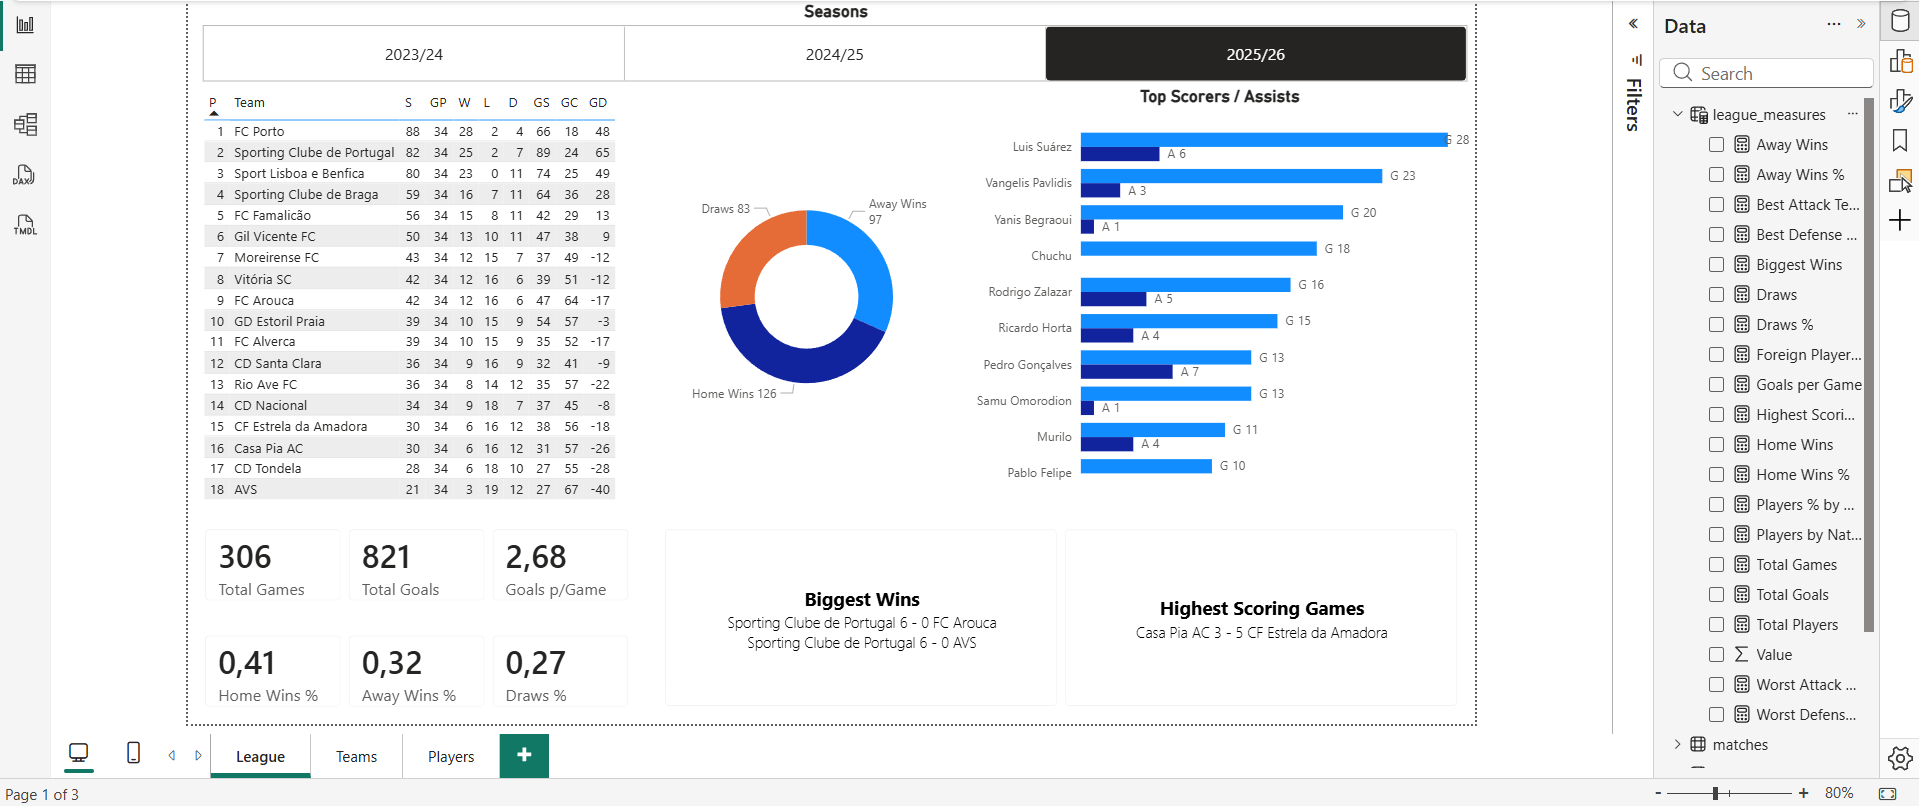

The page's visual inventory and layout, read from the dashboard file:
{"tool":"powerbi","page":{"name":"League","canvas":[1280,720],"ordinal":0},"visuals":[{"type":"tableEx","fields":{"Values":["standings.position","standings.team_name","standings.points","standings.games_played","standings.won","standings.lost","standings.draw","standings.goals_scored","standings.goals_suffered","standings.goal_difference"]},"box":[10,84.6,435.4,419.2],"z":0},{"type":"cardVisual","fields":{"Data":["liga_measures.Home Wins %","liga_measures.Away Wins %","liga_measures.Draws %"]},"box":[0,614.5,457.8,105.7],"z":1000},{"type":"cardVisual","fields":{"Data":["liga_measures.Total Games","liga_measures.Total Goals","liga_measures.Goals per Game"]},"box":[0,508.8,457.8,105.7],"z":2000},{"type":"donutChart","fields":{"Y":["liga_measures.Away Wins","liga_measures.Home Wins","liga_measures.Draws"]},"box":[457.4,85.1,316,419.8],"z":3000},{"type":"clusteredBarChart","title":"Top Scorers / Assists","fields":{"Category":["scorers.player_name"],"Y":["Sum(scorers.goals)","Sum(scorers.assists)"]},"box":[773.3,85.1,506.4,419.8],"z":4000},{"type":"cardVisual","title":"Biggest Wins","fields":{"Data":["liga_measures.Biggest Wins","liga_measures.Highest Scoring Games"]},"box":[457.4,509.3,822.4,210.6],"z":5000},{"type":"advancedSlicerVisual","title":"Seasons","fields":{"Values":["seasons.season_label"]},"box":[9.9,0,1270.1,85.8],"z":6000}]}

Visuals, with their boxes on the page's 1280x720 design canvas (x1, y1, x2, y2). These are canvas units, not pixel positions in the 1919x806 screenshot, which may show the page scaled, cropped or inside an application window:
tableEx - standings.position x standings.team_name: <bbox>10, 85, 445, 504</bbox>
cardVisual - liga_measures.Home Wins % x liga_measures.Away Wins %: <bbox>0, 614, 458, 720</bbox>
cardVisual - liga_measures.Total Games x liga_measures.Total Goals: <bbox>0, 509, 458, 614</bbox>
donutChart - liga_measures.Away Wins x liga_measures.Home Wins: <bbox>457, 85, 773, 505</bbox>
"Top Scorers / Assists" clusteredBarChart: <bbox>773, 85, 1280, 505</bbox>
"Biggest Wins" cardVisual: <bbox>457, 509, 1280, 720</bbox>
"Seasons" advancedSlicerVisual: <bbox>10, 0, 1280, 86</bbox>
